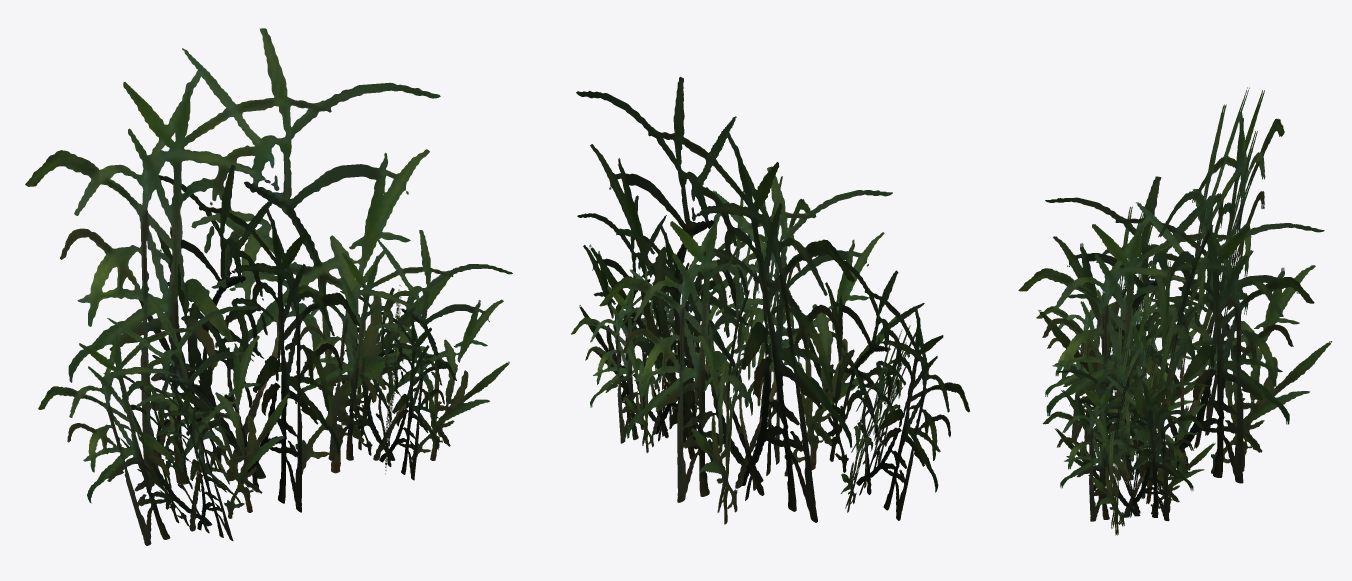
File: Dingqingchuan_wujian_15.FBX
3 views of the same model, side by side, from view 1: azimuth 30°, elevation 25°; view 2: azimuth 150°, elevation 25°; view 3: azimuth 270°, elevation 25° (orthographic). The views are drawn at different scales.
Visible parts, largest first — view 1: Plane372; view 2: Plane372; view 3: Plane372.
Boxes of the visible parts, x1=… form: Plane372: x1=25, y1=28, x2=512, y2=545; Plane372: x1=571, y1=76, x2=970, y2=524; Plane372: x1=1018, y1=87, x2=1332, y2=535.
Size of the model in its own units: 4.39 by 4.11 by 2.9.
